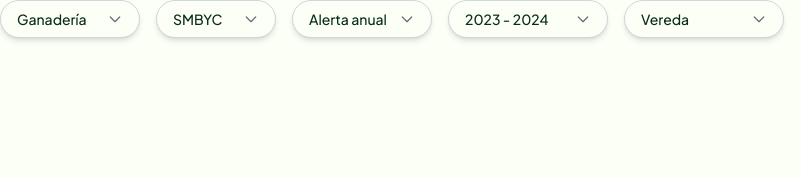
Scenario: FilterSelects › report type › offers the three report scopes
Click the text "Vereda" at (665, 19), box [641,10,689,28]
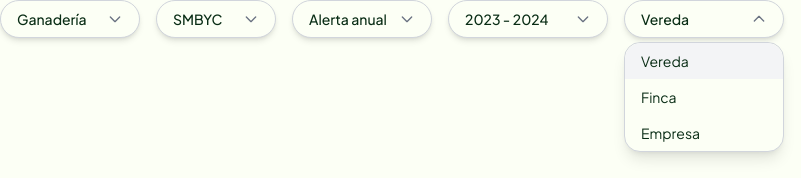
Result: the text "Finca" is shown at [641,88,677,106]
Result: the text "Empresa" is shown at [641,124,700,142]
